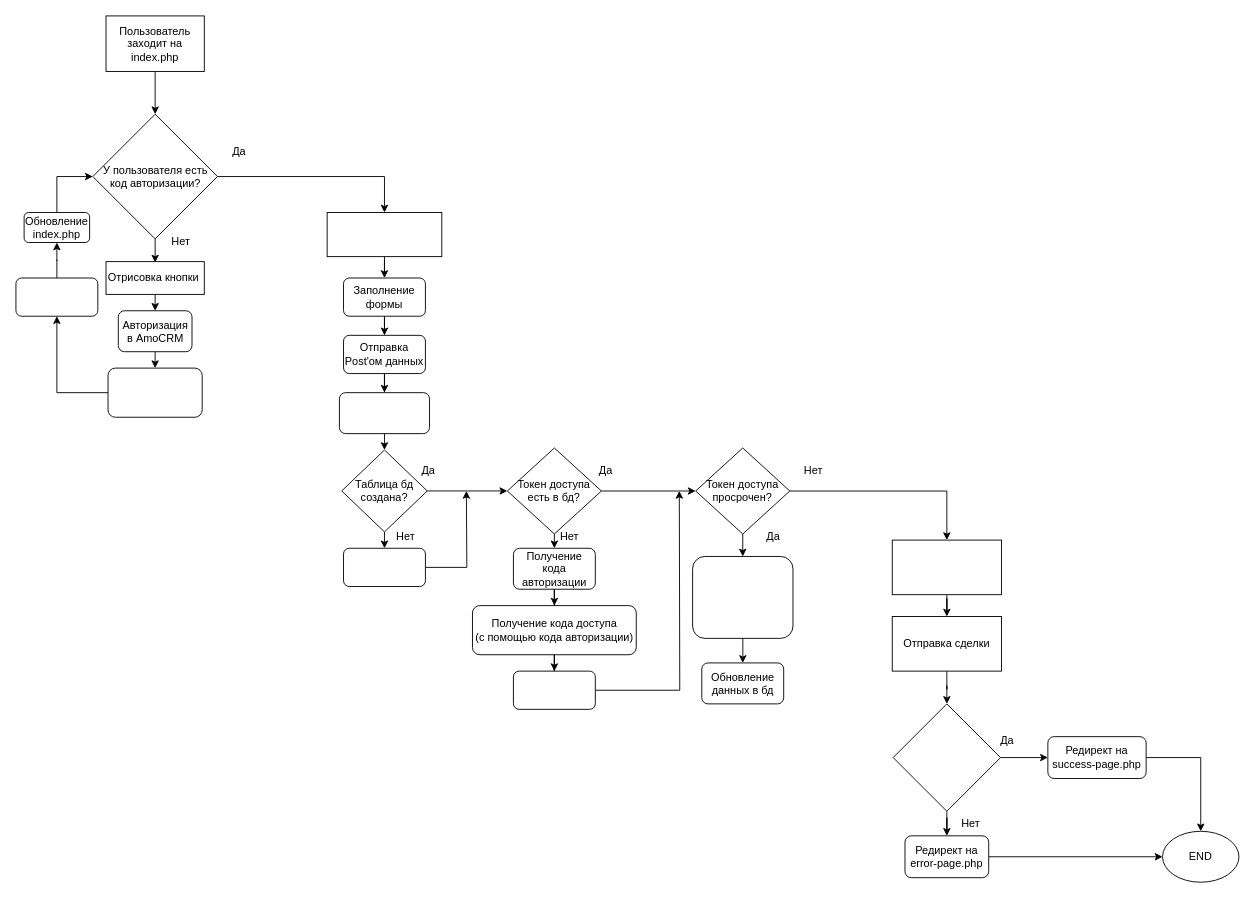
The diagram is 1255 pixels wide and 898 high, and some of its shapes have lost their labels. Each missing label, with the box of its shape:
Отрисовка формы для заполнения: (326, 212, 442, 257)
Получение нового кода доступа (с помощью refresh токена): (692, 556, 793, 638)
Получение сервиса для создания сделок: (891, 539, 1001, 595)
Предоставление доступа для интеграции: (107, 367, 202, 417)
Редирект на Send-contact.php: (339, 392, 430, 434)
Сделка отправилась?: (892, 703, 1001, 811)
Создание таблицы: (343, 547, 425, 586)
Сохранение кода авторизации: (15, 277, 98, 316)
Сохранение кода доступа в бд: (513, 670, 595, 709)
